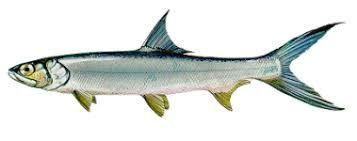Tenpounder: (10, 8, 348, 125)
